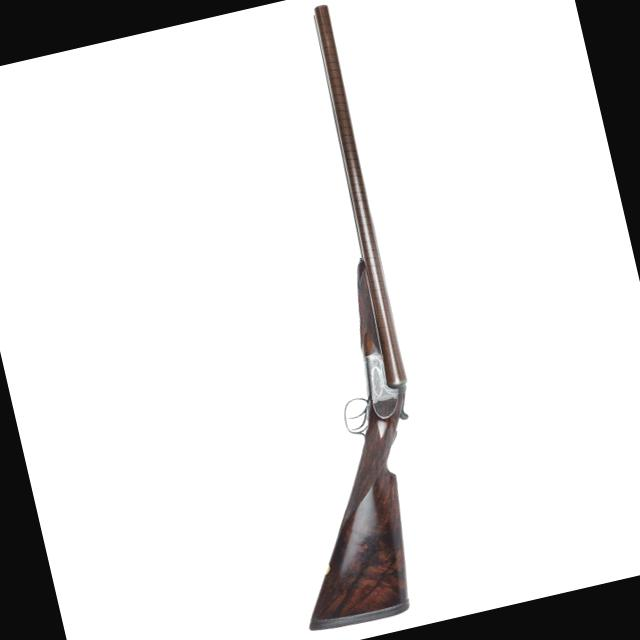long weapon: (265, 0, 471, 640)
